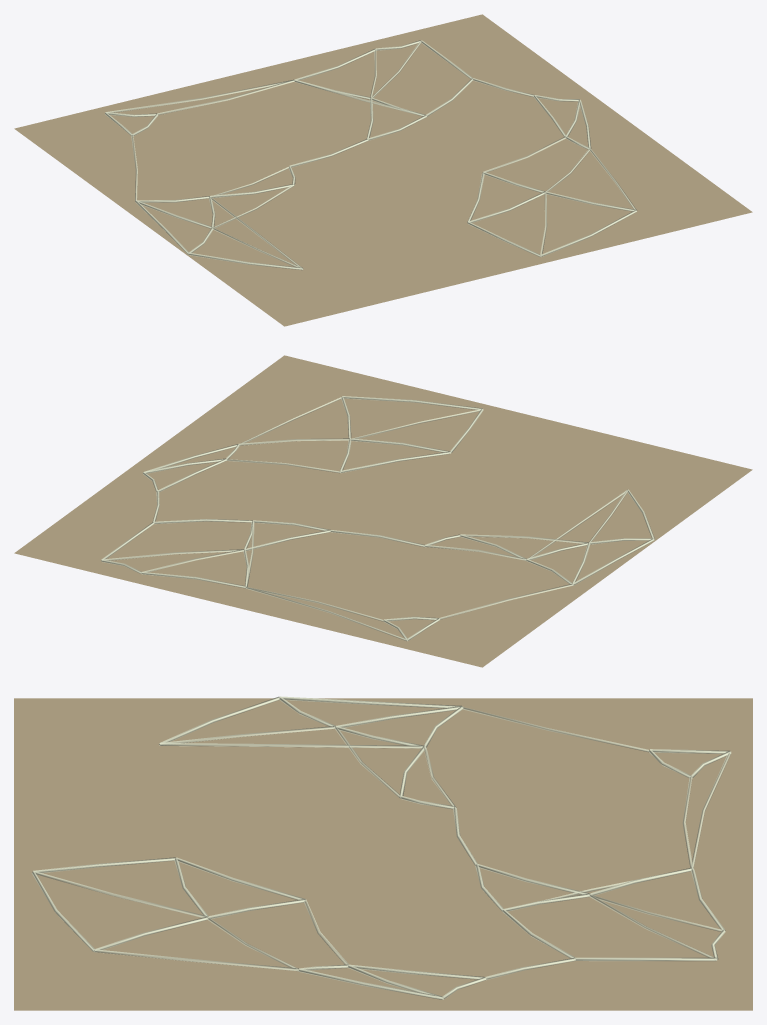
The model's file is lake-caustics-shallows-1.glb.
3 renders of one model, top to bottom at view 1: azimuth 30°, elevation 25°; view 2: azimuth 150°, elevation 25°; view 3: azimuth 270°, elevation 25°, orthographic. The views are drawn at different scales.
Visible parts, largest first — view 1: lake-caustics-shallows-1; view 2: lake-caustics-shallows-1; view 3: lake-caustics-shallows-1.
Boxes of the visible parts, x1,y1,x2,y2 form: lake-caustics-shallows-1: (14, 14, 752, 326); lake-caustics-shallows-1: (14, 355, 752, 667); lake-caustics-shallows-1: (14, 696, 752, 1010).
Bounding box in the file's own units: 3 × 0.0149 × 3.
